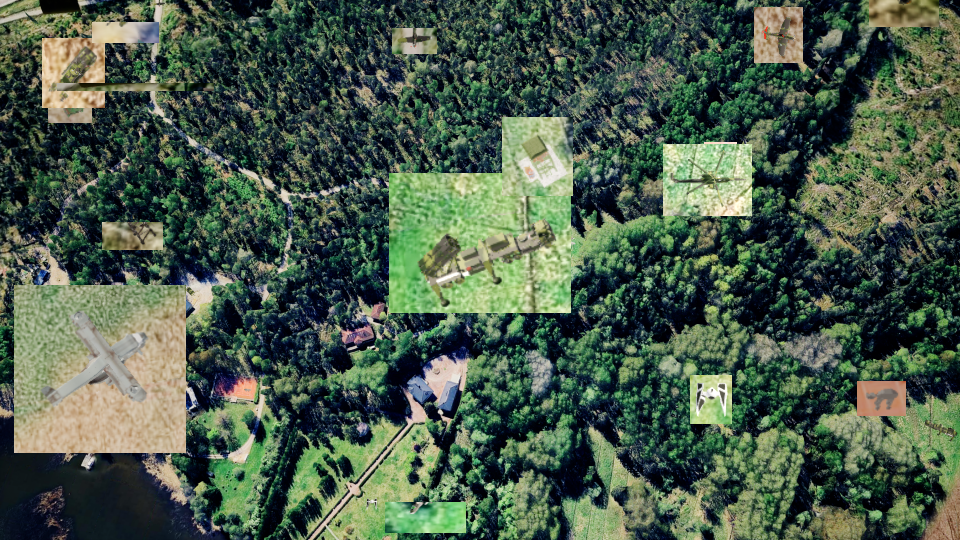condor: (14, 285, 186, 453)
hangar: (57, 83, 214, 91)
helicopter: (663, 144, 752, 216)
jammer: (48, 67, 92, 123)
jet_plane: (385, 502, 466, 533)
large_launcher: (389, 173, 571, 313)
large_tower: (102, 222, 163, 250)
medium_launcher: (869, 0, 939, 27)
medium_plane: (392, 28, 437, 54)
mine_roller: (42, 38, 105, 108)
small_launcher: (704, 142, 737, 187)
small_plane: (754, 7, 803, 63)
small_tower: (502, 117, 573, 196)
spacecraft: (690, 375, 732, 424)
ta-ta: (857, 381, 906, 416)
tank: (92, 22, 159, 43)
